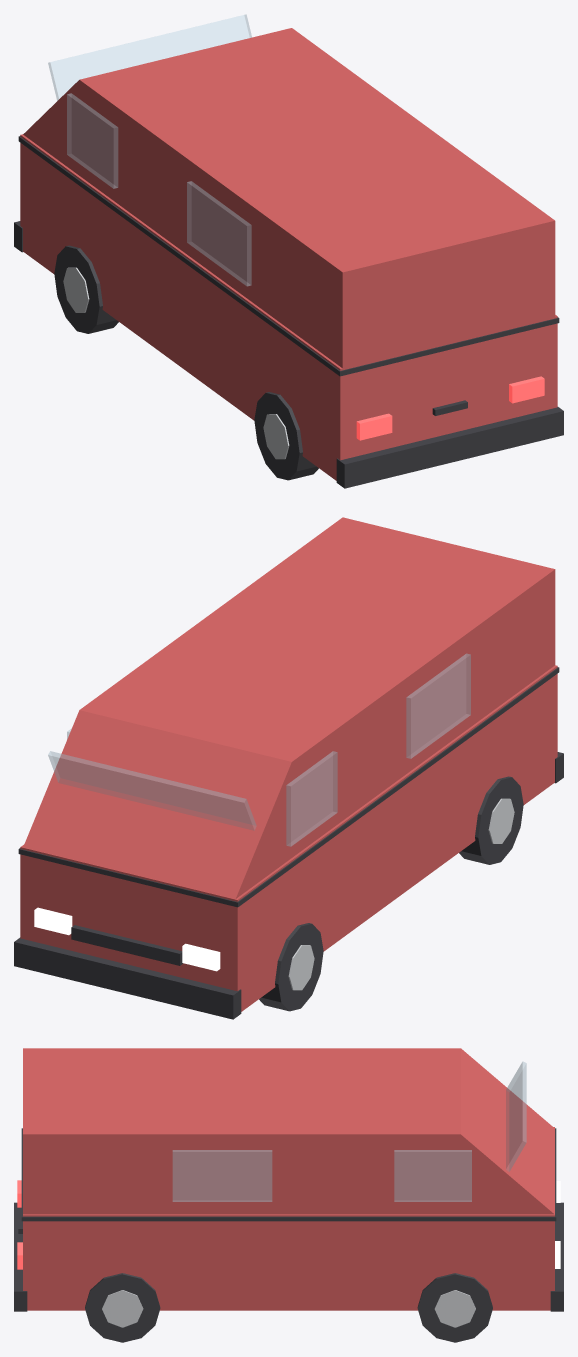
File: car_van_red.glb
3 views of the same model, one above another, from view 1: azimuth 30°, elevation 25°; view 2: azimuth 150°, elevation 25°; view 3: azimuth 270°, elevation 25° (orthographic). The views are drawn at different scales.
Parts seen in each view (by area): view 1: body, wheel_fl, wheel_rl; view 2: body, wheel_rl, wheel_fl; view 3: body, wheel_fr, wheel_rr.
Boxes of the visible parts, bbox=[...] form: body: bbox=[14, 14, 563, 488]; wheel_fl: bbox=[54, 245, 118, 333]; wheel_rl: bbox=[254, 392, 318, 480]; body: bbox=[14, 517, 563, 1019]; wheel_rl: bbox=[459, 776, 523, 864]; wheel_fl: bbox=[259, 923, 323, 1011]; body: bbox=[14, 1048, 563, 1311]; wheel_fr: bbox=[417, 1273, 492, 1342]; wheel_rr: bbox=[85, 1273, 160, 1342].
Size of the model in its own units: 1.96 by 2.12 by 4.96.
